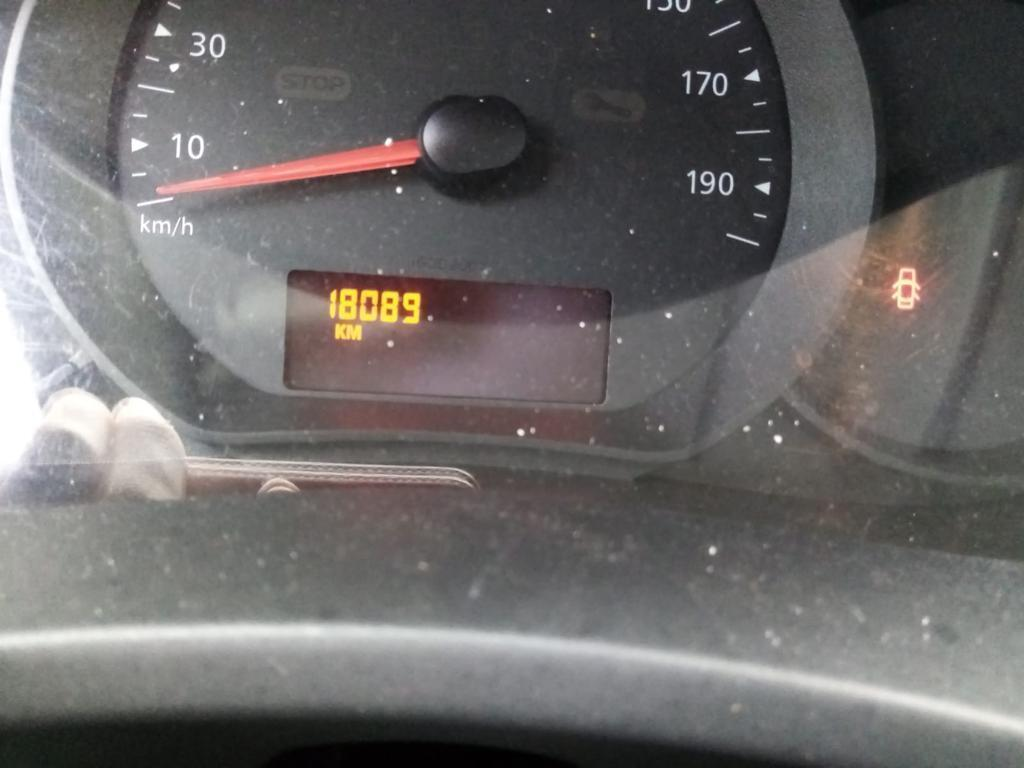0: (359, 287, 378, 322)
1: (327, 285, 337, 320)
8: (337, 285, 358, 321), (380, 288, 400, 323)
9: (401, 289, 422, 323)
X: (346, 322, 363, 340), (333, 321, 346, 340)
odometer: (279, 260, 616, 409)
